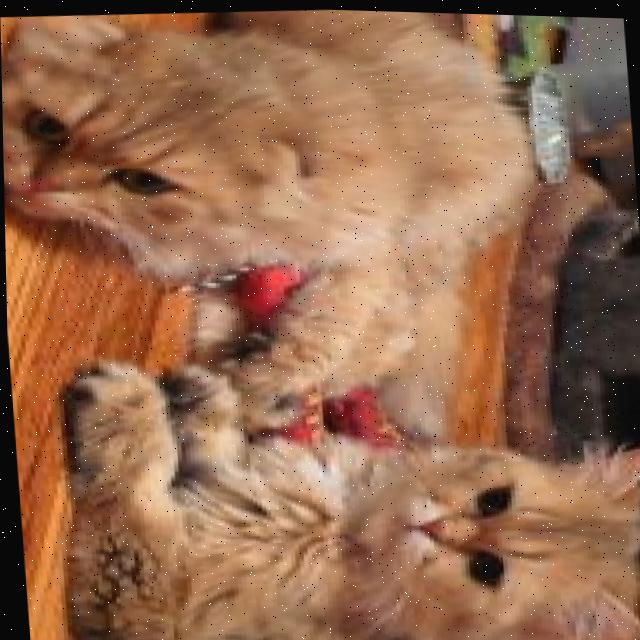Scottish Fold: (0, 0, 564, 409), (42, 332, 640, 640)
